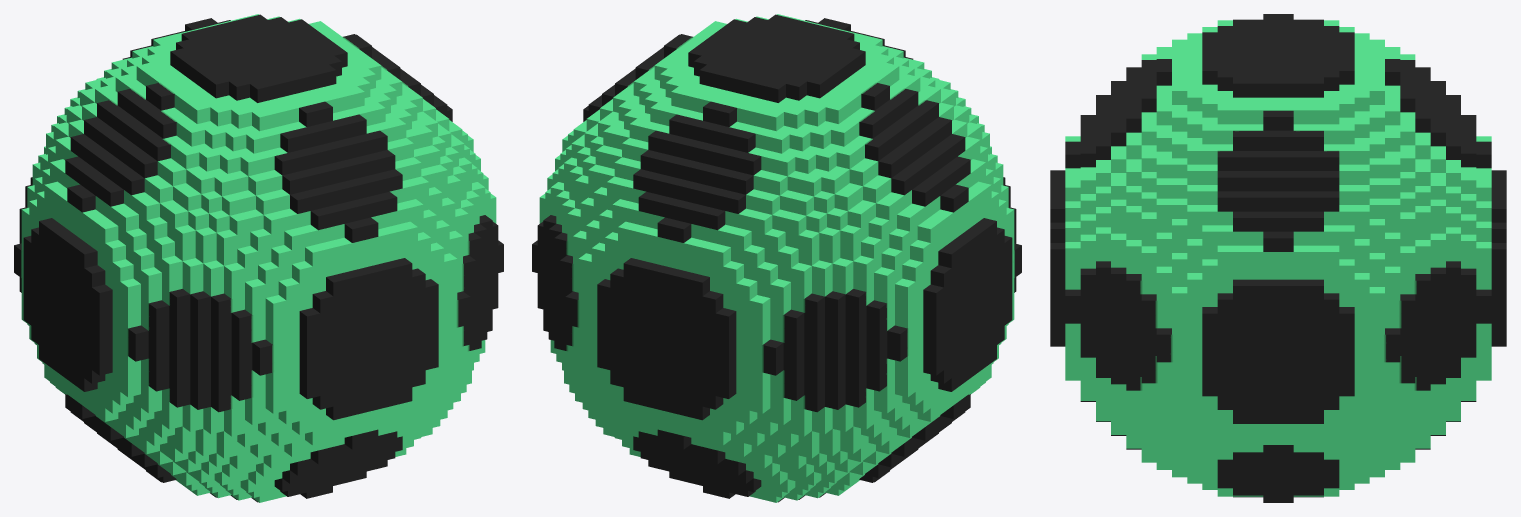
The model's file is Character_20.fbx.
3 renders of one model, left to right at view 1: azimuth 30°, elevation 25°; view 2: azimuth 150°, elevation 25°; view 3: azimuth 270°, elevation 25°, orthographic.
Visible parts, largest first — view 1: Character_20; view 2: Character_20; view 3: Character_20.
Part boxes in pixels (bbox=[...]): Character_20: bbox=[14, 14, 503, 502]; Character_20: bbox=[532, 14, 1021, 502]; Character_20: bbox=[1050, 14, 1506, 502].
Size of the model in its own units: 30 by 30 by 30.
1 material, 1 textured.
